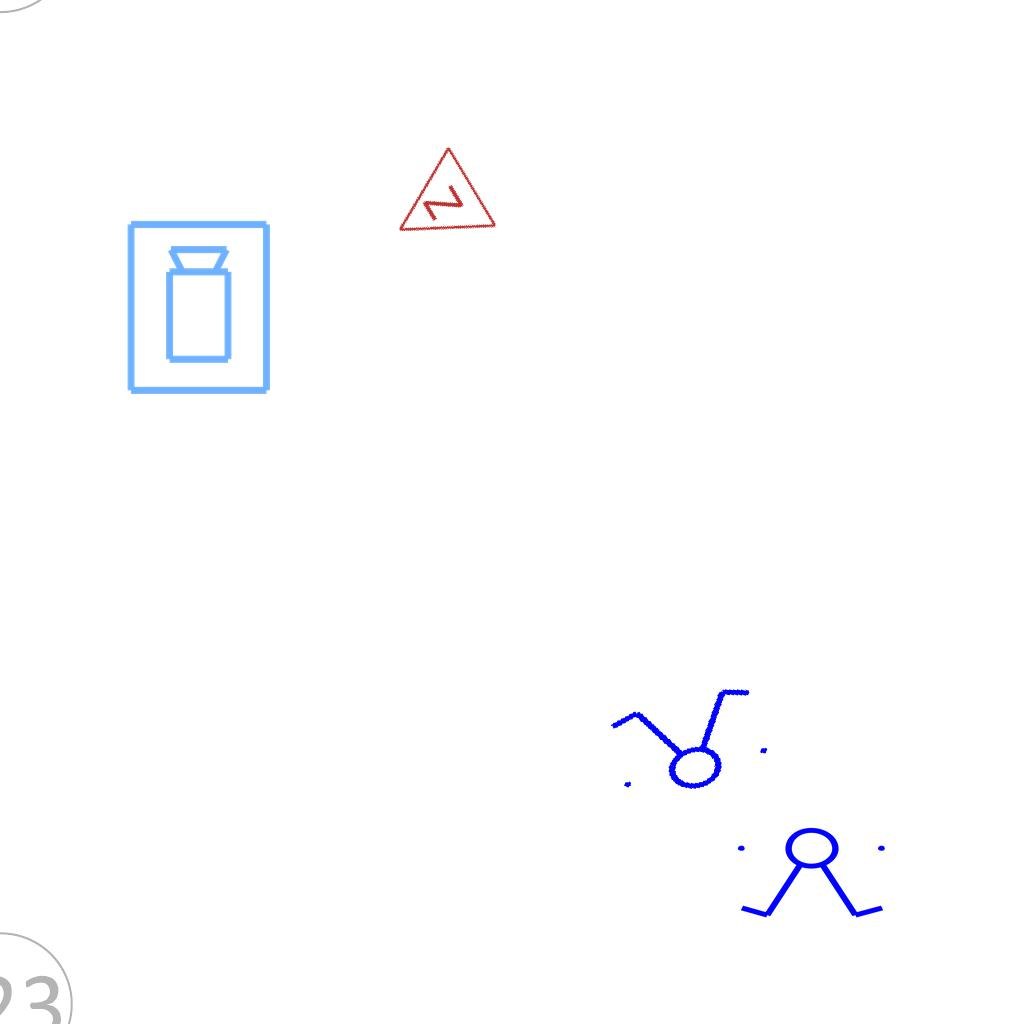KFO_Kamera_mit_Festobjektiv: (123, 217, 277, 399)
Serienschalter: (594, 676, 782, 810), (729, 826, 897, 922)
Zimmersignalleuchte: (368, 141, 506, 277)
